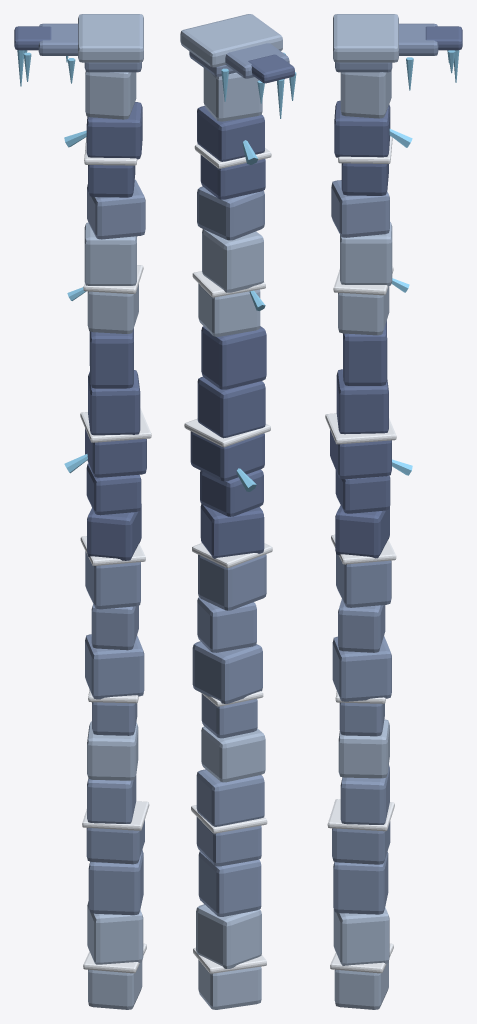
The model's file is FP_T10_PlatformPier.fbx.
3 views of the same model, side by side, from view 1: azimuth 90°, elevation 25°; view 2: azimuth 210°, elevation 25°; view 3: azimuth 270°, elevation 25° (orthographic).
Visible parts, largest first — view 1: FP_T10_PlatformPier; view 2: FP_T10_PlatformPier; view 3: FP_T10_PlatformPier.
Part boxes in pixels (left/top/right/bottom): FP_T10_PlatformPier: left=14, top=14, right=151, bottom=1009; FP_T10_PlatformPier: left=180, top=14, right=296, bottom=1009; FP_T10_PlatformPier: left=325, top=14, right=462, bottom=1009.
Size of the model in its own units: 1.9 by 24.31 by 3.12.
